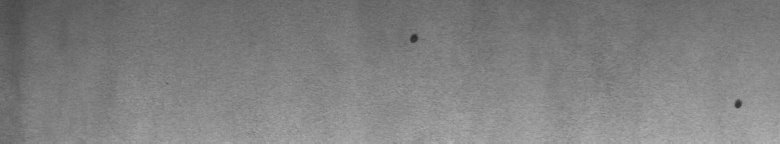fi: (728, 92, 747, 116)
